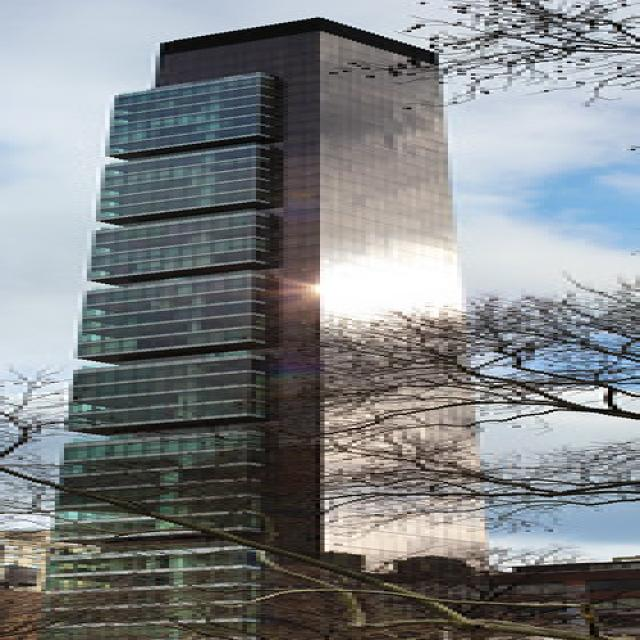Normal_building: (37, 15, 512, 637)
